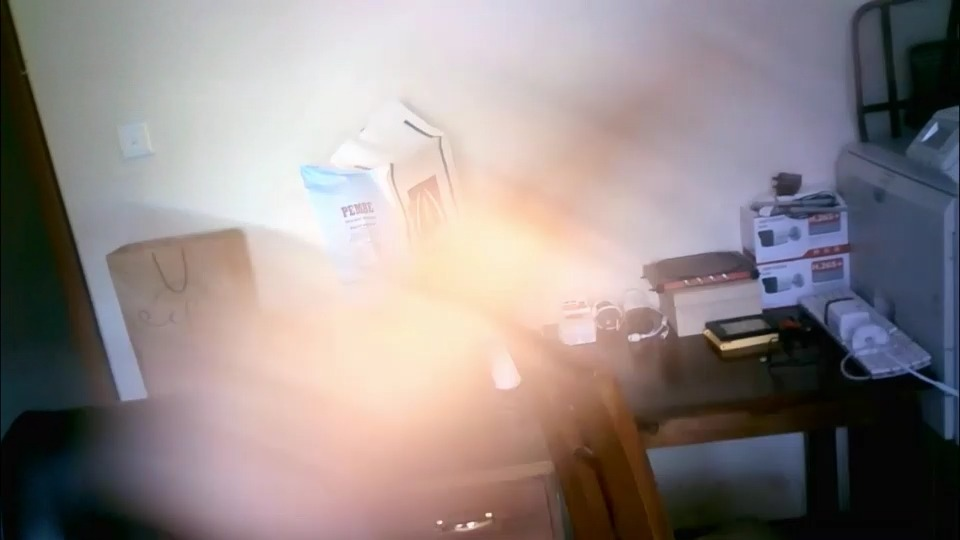wheat_flour_blue_label: (301, 102, 465, 255)
